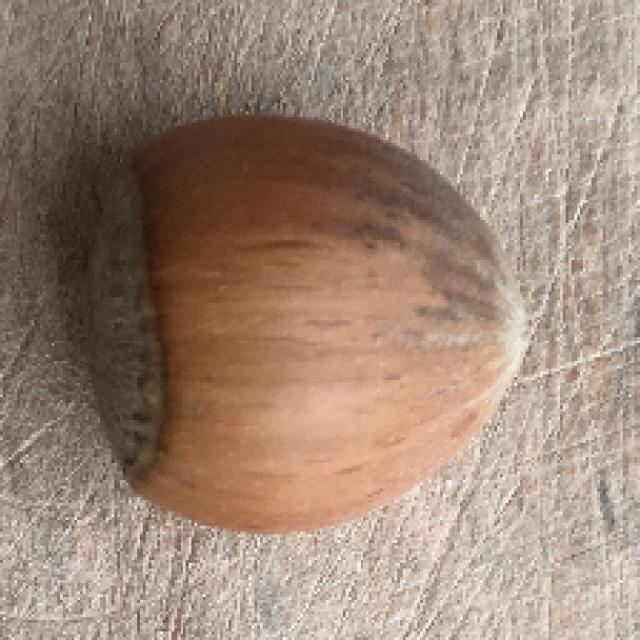qualityHazelnut: (81, 113, 530, 536)
